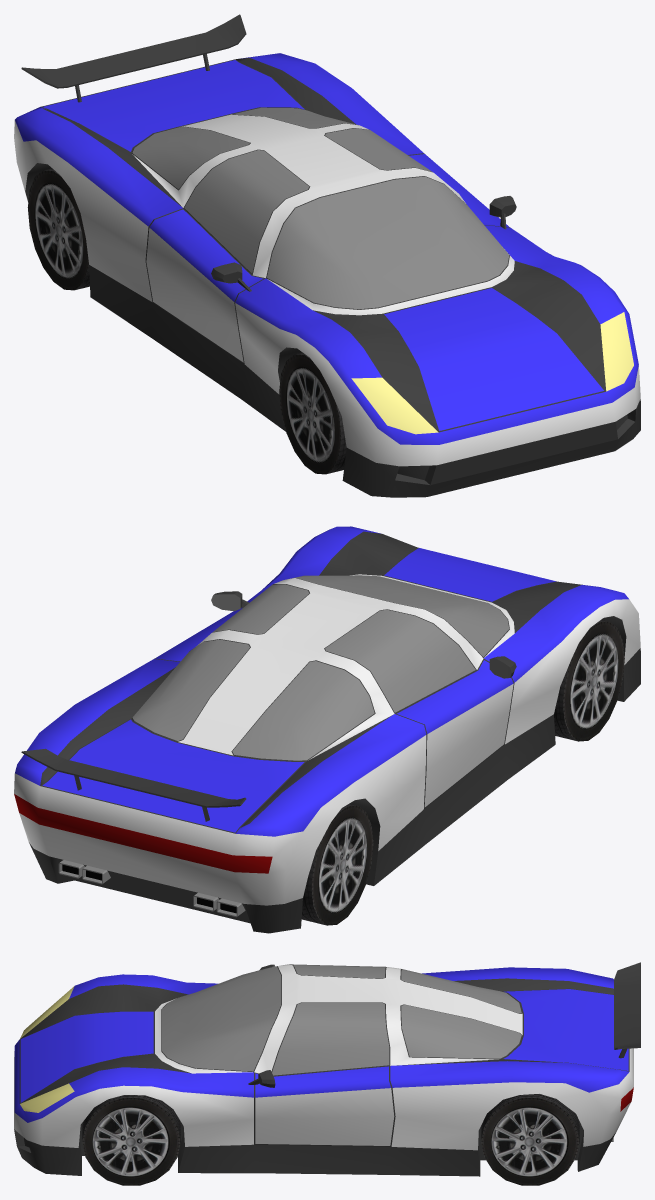
The model's file is car_9.FBX.
The picture shows the model from 3 angles, top to bottom: view 1: azimuth 30°, elevation 25°; view 2: azimuth 150°, elevation 25°; view 3: azimuth 270°, elevation 25°; orthographic projection. The views are drawn at different scales.
Visible parts, largest first — view 1: Object008, Cylinder042, Cylinder041; view 2: Object008, Cylinder041, Cylinder042; view 3: Object008, Cylinder043, Cylinder044.
Part boxes in pixels (x1,y1,x2,y2): Object008: [14, 14, 640, 497]; Cylinder042: [279, 352, 346, 474]; Cylinder041: [27, 168, 89, 290]; Object008: [14, 526, 640, 933]; Cylinder041: [301, 803, 373, 925]; Cylinder042: [554, 619, 624, 741]; Object008: [14, 962, 640, 1176]; Cylinder043: [481, 1094, 579, 1185]; Cylinder044: [82, 1095, 180, 1185].
Bounding box in the file's own units: 2.14 × 1.22 × 4.88.
